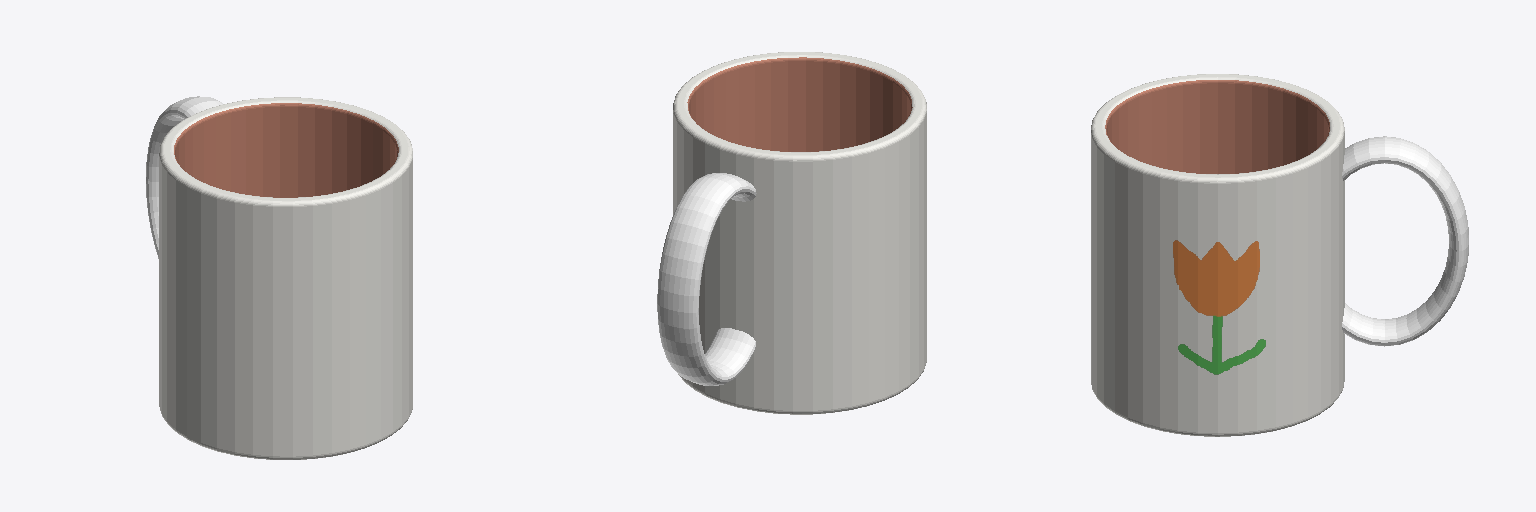
3 views of the same model, side by side, from view 1: azimuth 30°, elevation 25°; view 2: azimuth 150°, elevation 25°; view 3: azimuth 270°, elevation 25° (orthographic).
Parts seen in each view (by area): view 1: Mesh3_Group2_Model; view 2: Mesh3_Group2_Model; view 3: Mesh3_Group2_Model.
Part boxes in pixels (x1,y1,x2,y2): Mesh3_Group2_Model: (146,96,412,459); Mesh3_Group2_Model: (657,52,926,414); Mesh3_Group2_Model: (1091,74,1468,436).
Size of the model in its own units: 0.5967 by 0.6661 by 0.8817.
4 materials, 1 textured.